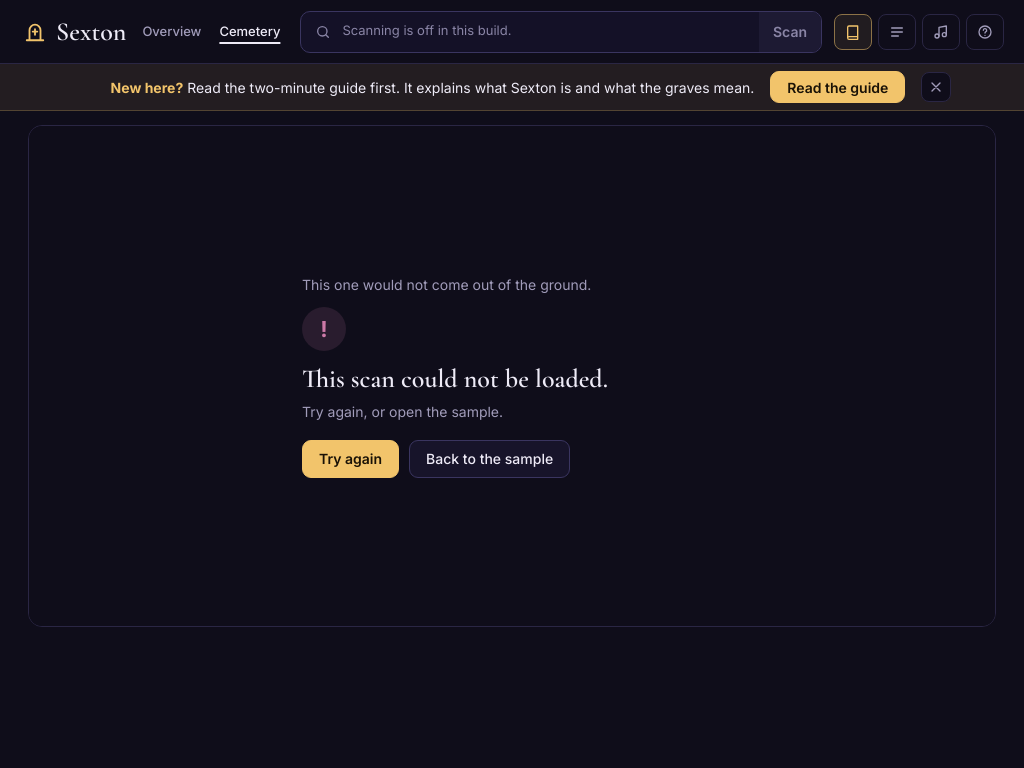
Test: the Legend (13.1, 13.2, 13.11, 13.12) › opens under its button with the heading, eight entries in order and the fix order line, and closes on a second press
Click the 2nd button named "Legend" at [897, 32], box top-left (878, 14), bottom-right (916, 50)
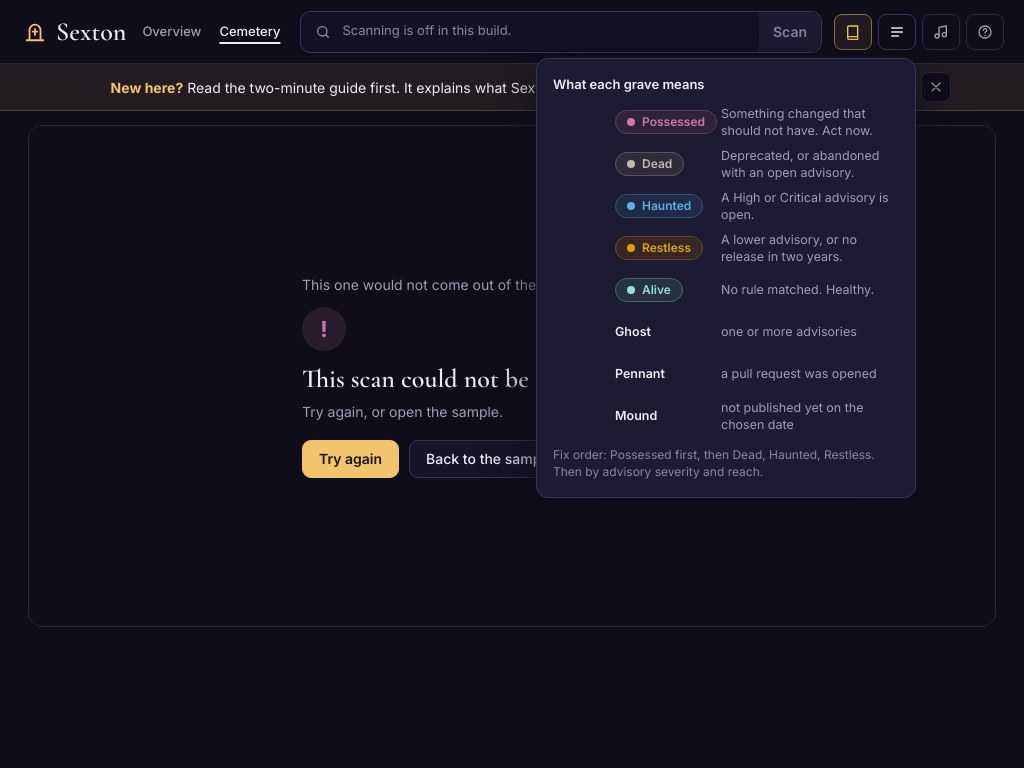
Check: the text "What each grave means" is shown, box top-left (553, 76), bottom-right (704, 92)
Check: the text with class "legend-triage" shows "Fix order: Possessed first, then Dead, Haunted, Restless. Then by advisory severity and reach.", box top-left (553, 447), bottom-right (875, 479)
Click the 2nd button named "Legend" at [897, 32], box top-left (878, 14), bottom-right (916, 50)
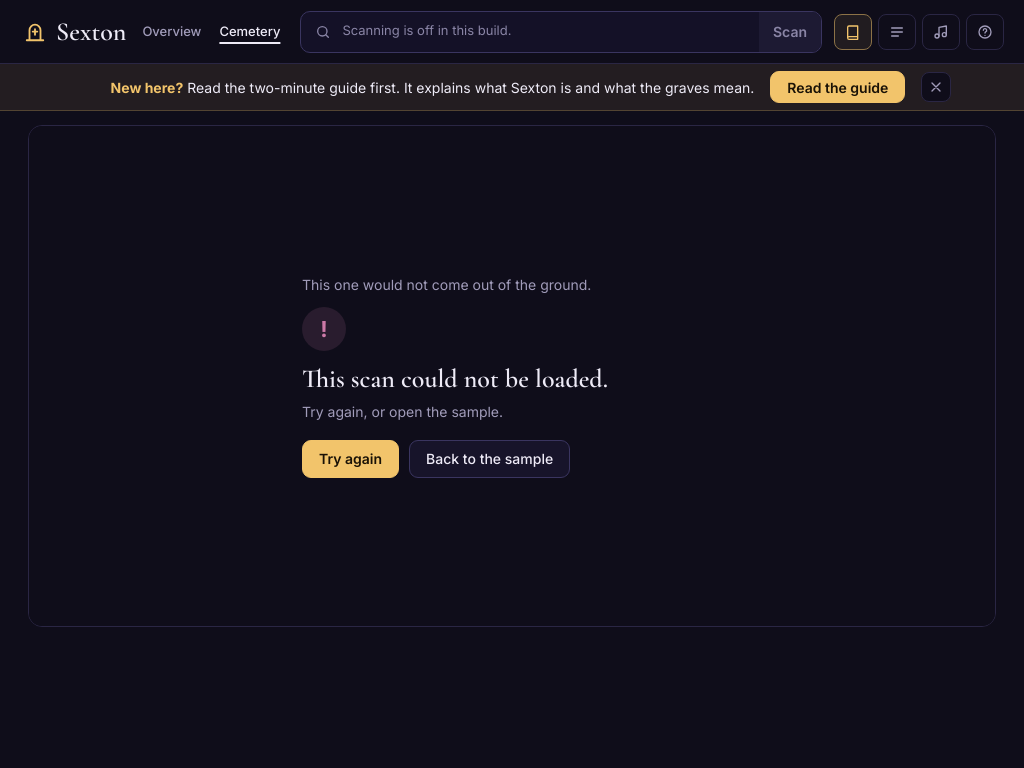
Check: the 2nd button named "Legend" is collapsed, box top-left (878, 14), bottom-right (916, 50)
